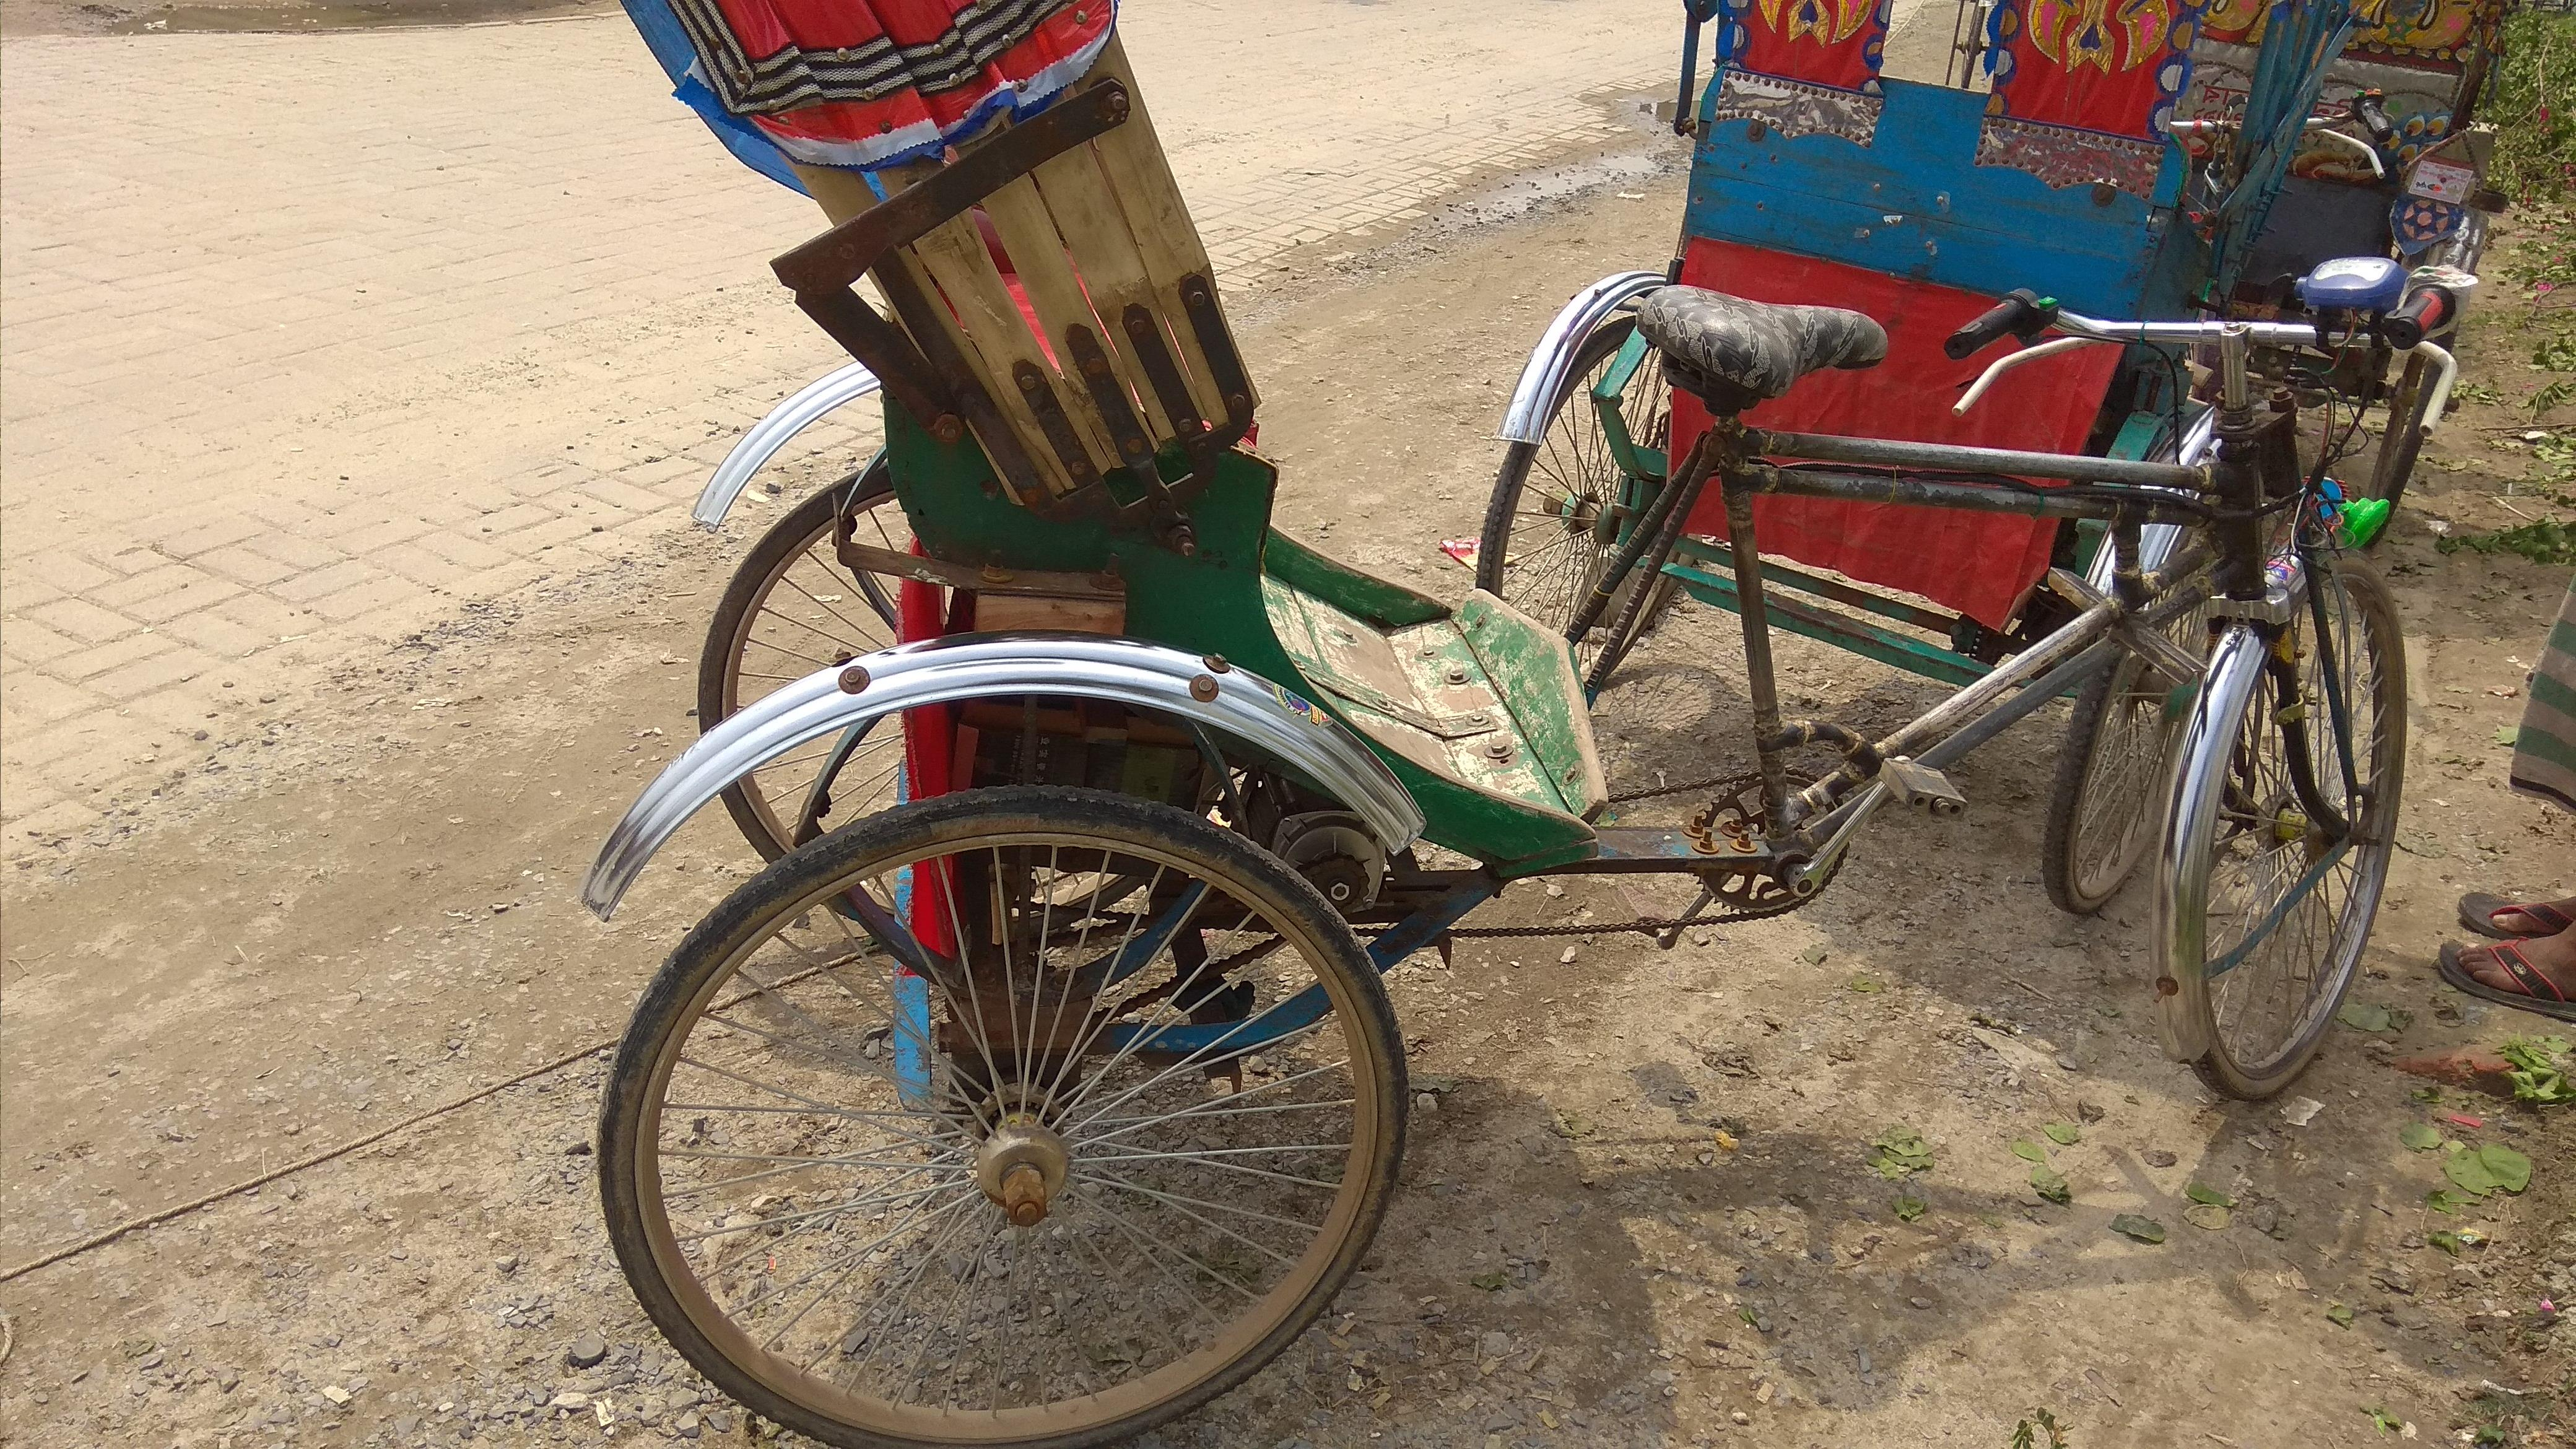Rickshaw: (538, 4, 2143, 1440), (1628, 7, 2268, 832), (2224, 14, 2489, 593)
